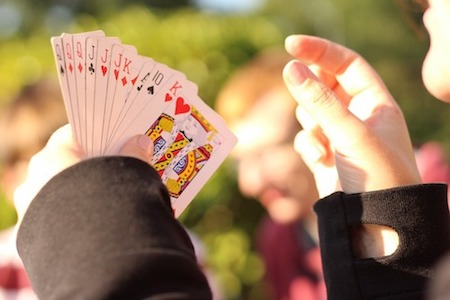10OfSpades: (144, 63, 174, 96)
AceOfClubs: (134, 57, 150, 104)
JackOfClubs: (83, 36, 100, 165)
JackOfHearts: (97, 38, 112, 168), (109, 44, 123, 163)
KingOfDiamonds: (119, 50, 137, 120)
KingOfHearts: (157, 72, 240, 226)
QueenOfDiamonds: (61, 33, 78, 155), (73, 35, 88, 158)
QueenOfSpades: (48, 35, 67, 149)
